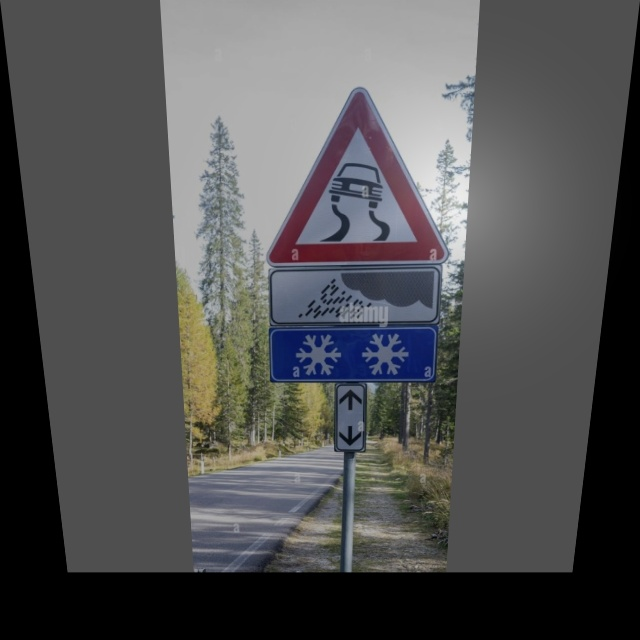Slippery_Road: (271, 90, 447, 258)
